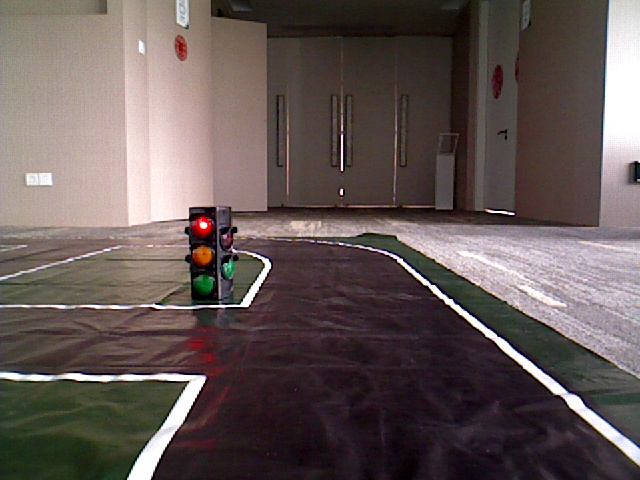red: (193, 209, 218, 296)
